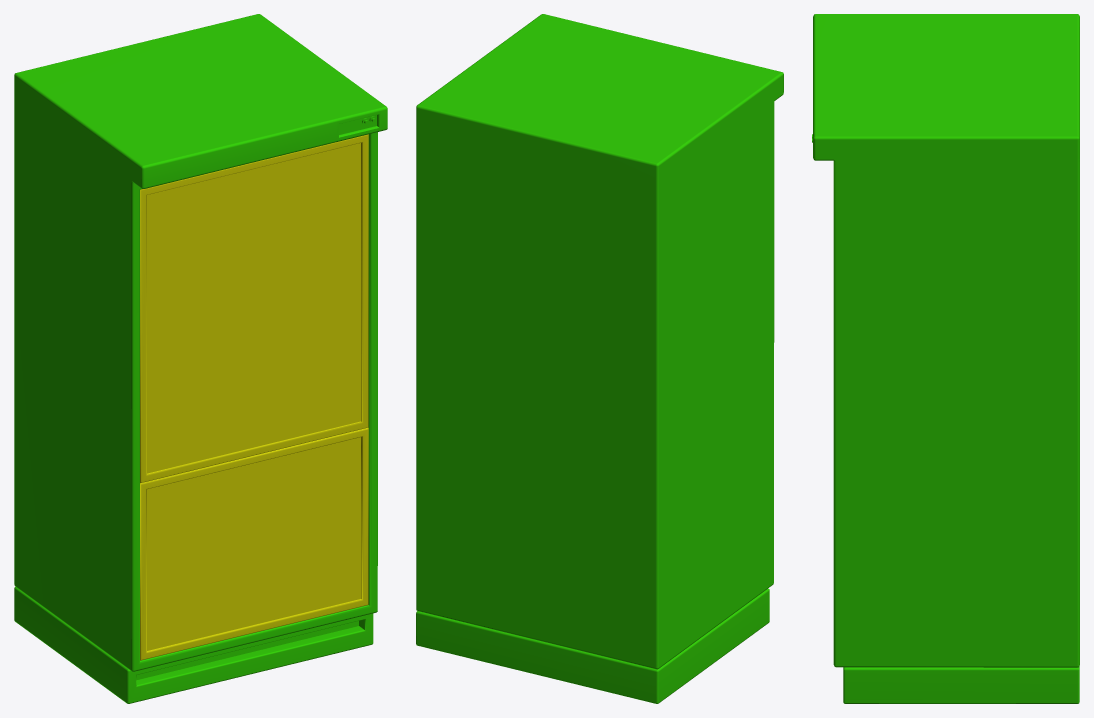
Rendered from kuchnia_21_lodowka_body.fbx.
3 renders of one model, left to right at view 1: azimuth 30°, elevation 25°; view 2: azimuth 150°, elevation 25°; view 3: azimuth 270°, elevation 25°, orthographic. The views are drawn at different scales.
Visible parts, largest first — view 1: Mesh; view 2: Mesh; view 3: Mesh.
Part boxes in pixels (x1,y1,x2,y2): Mesh: (14,14,387,703); Mesh: (416,14,783,703); Mesh: (812,14,1079,703).
Size of the model in its own units: 120 by 256 by 109.
